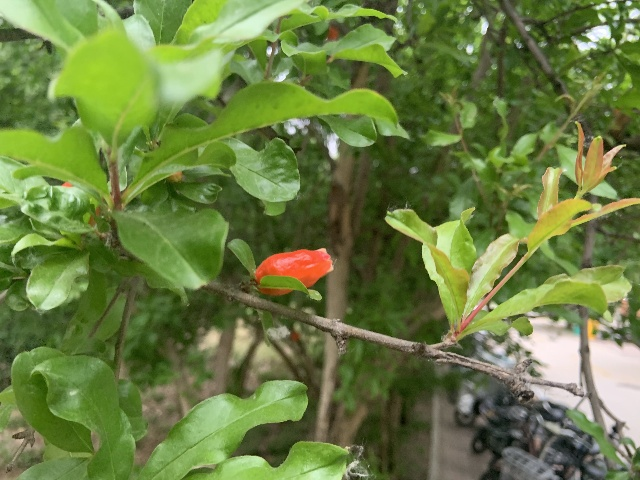bud: (255, 247, 333, 294)
